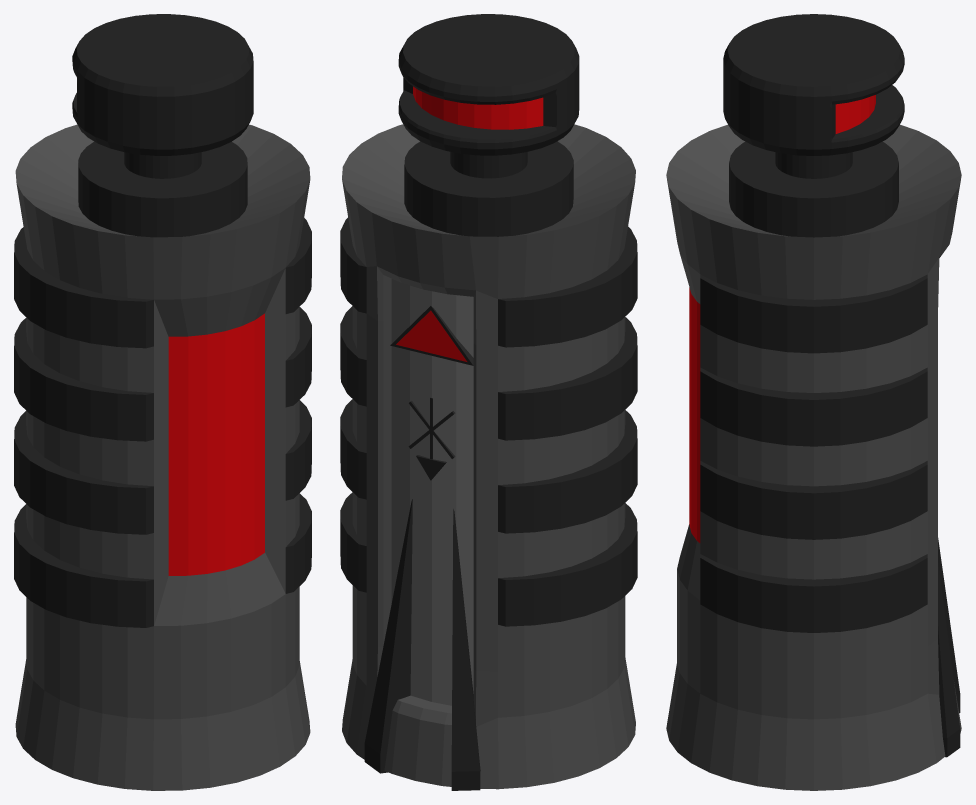
The model's file is winferno.fbx.
3 renders of one model, left to right at view 1: azimuth 30°, elevation 25°; view 2: azimuth 150°, elevation 25°; view 3: azimuth 270°, elevation 25°, orthographic.
Parts seen in each view (by area): view 1: Cone, Cylinder.001, Cylinder.002; view 2: Cone, Cylinder.001, Cylinder.002, Cube.001; view 3: Cone, Cylinder.001, Cylinder.002.
Part boxes in pixels (box(x1,y1,x2,y2)): Cone: box(14, 124, 311, 790); Cylinder.001: box(72, 14, 253, 155); Cylinder.002: box(124, 152, 201, 178); Cone: box(340, 124, 637, 790); Cylinder.001: box(398, 14, 579, 155); Cylinder.002: box(450, 152, 527, 178); Cube.001: box(408, 397, 455, 480); Cone: box(666, 124, 961, 790); Cylinder.001: box(723, 14, 904, 155); Cylinder.002: box(775, 152, 852, 178).
Size of the model in its own units: 263 by 651 by 254.
